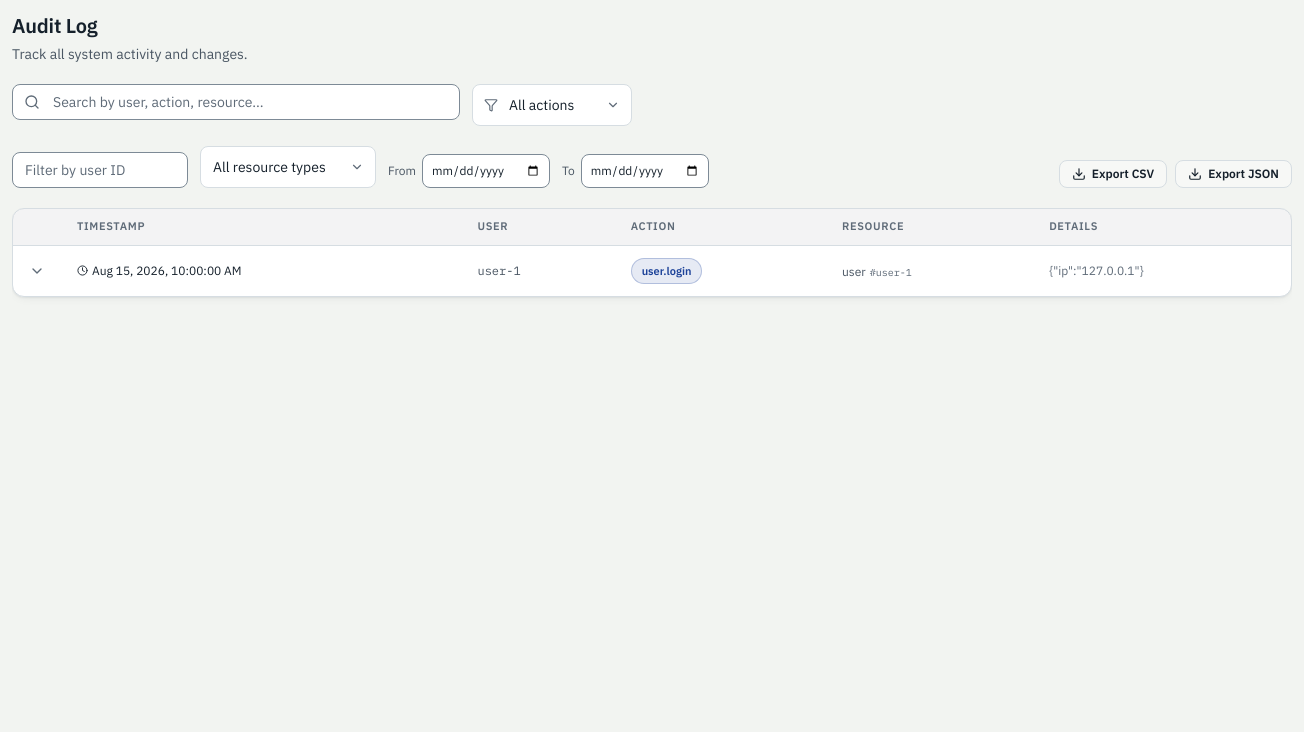
AdminAuditLogPage — filters and export › shows an error toast when export fails
Expected: the text "user.login" is shown, 631,258 -> 702,284
Click the button "Export CSV". click: (1113, 174)
box: 1059,160 -> 1167,188
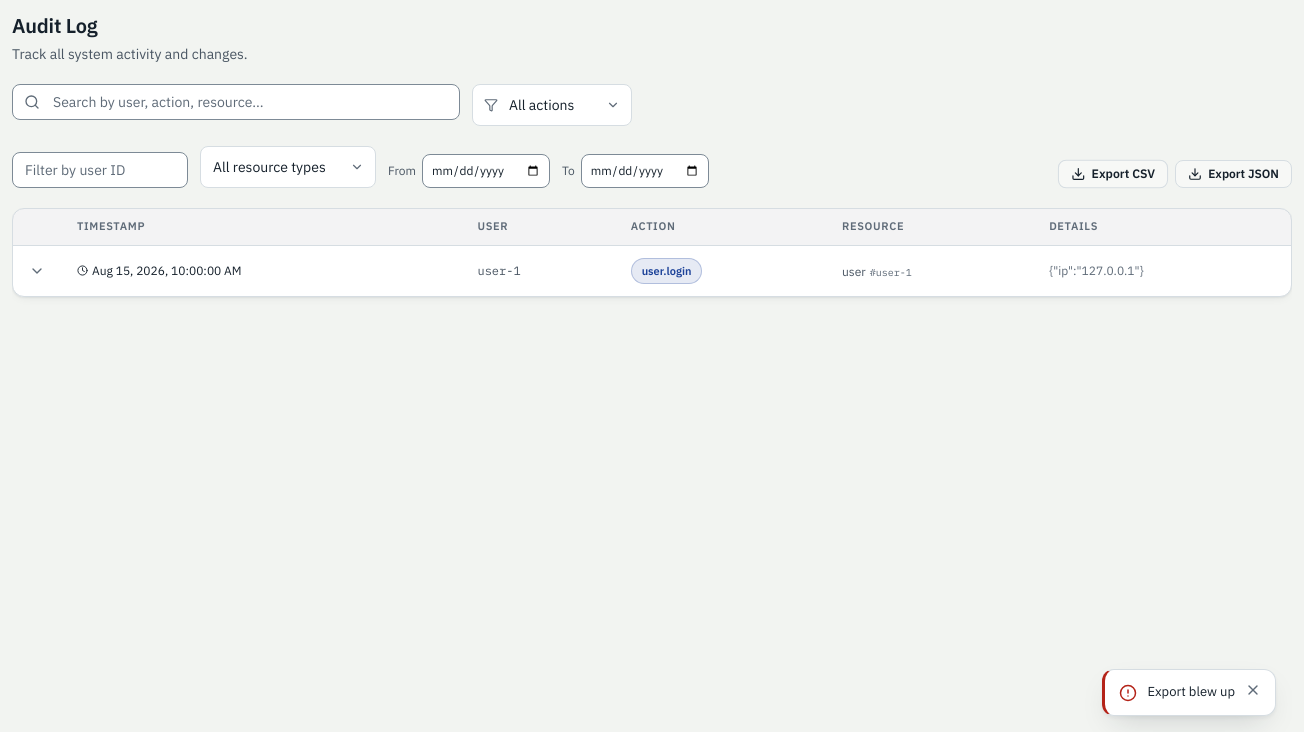
Expected: the text "Export blew up" is shown, 1147,682 -> 1235,703
